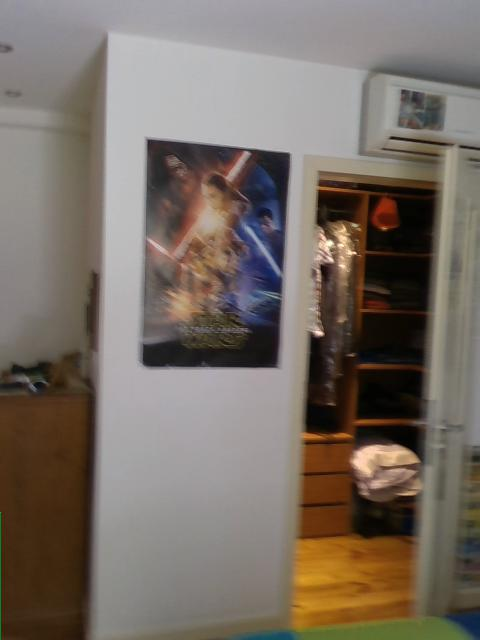semi_door: (288, 148, 441, 623)
